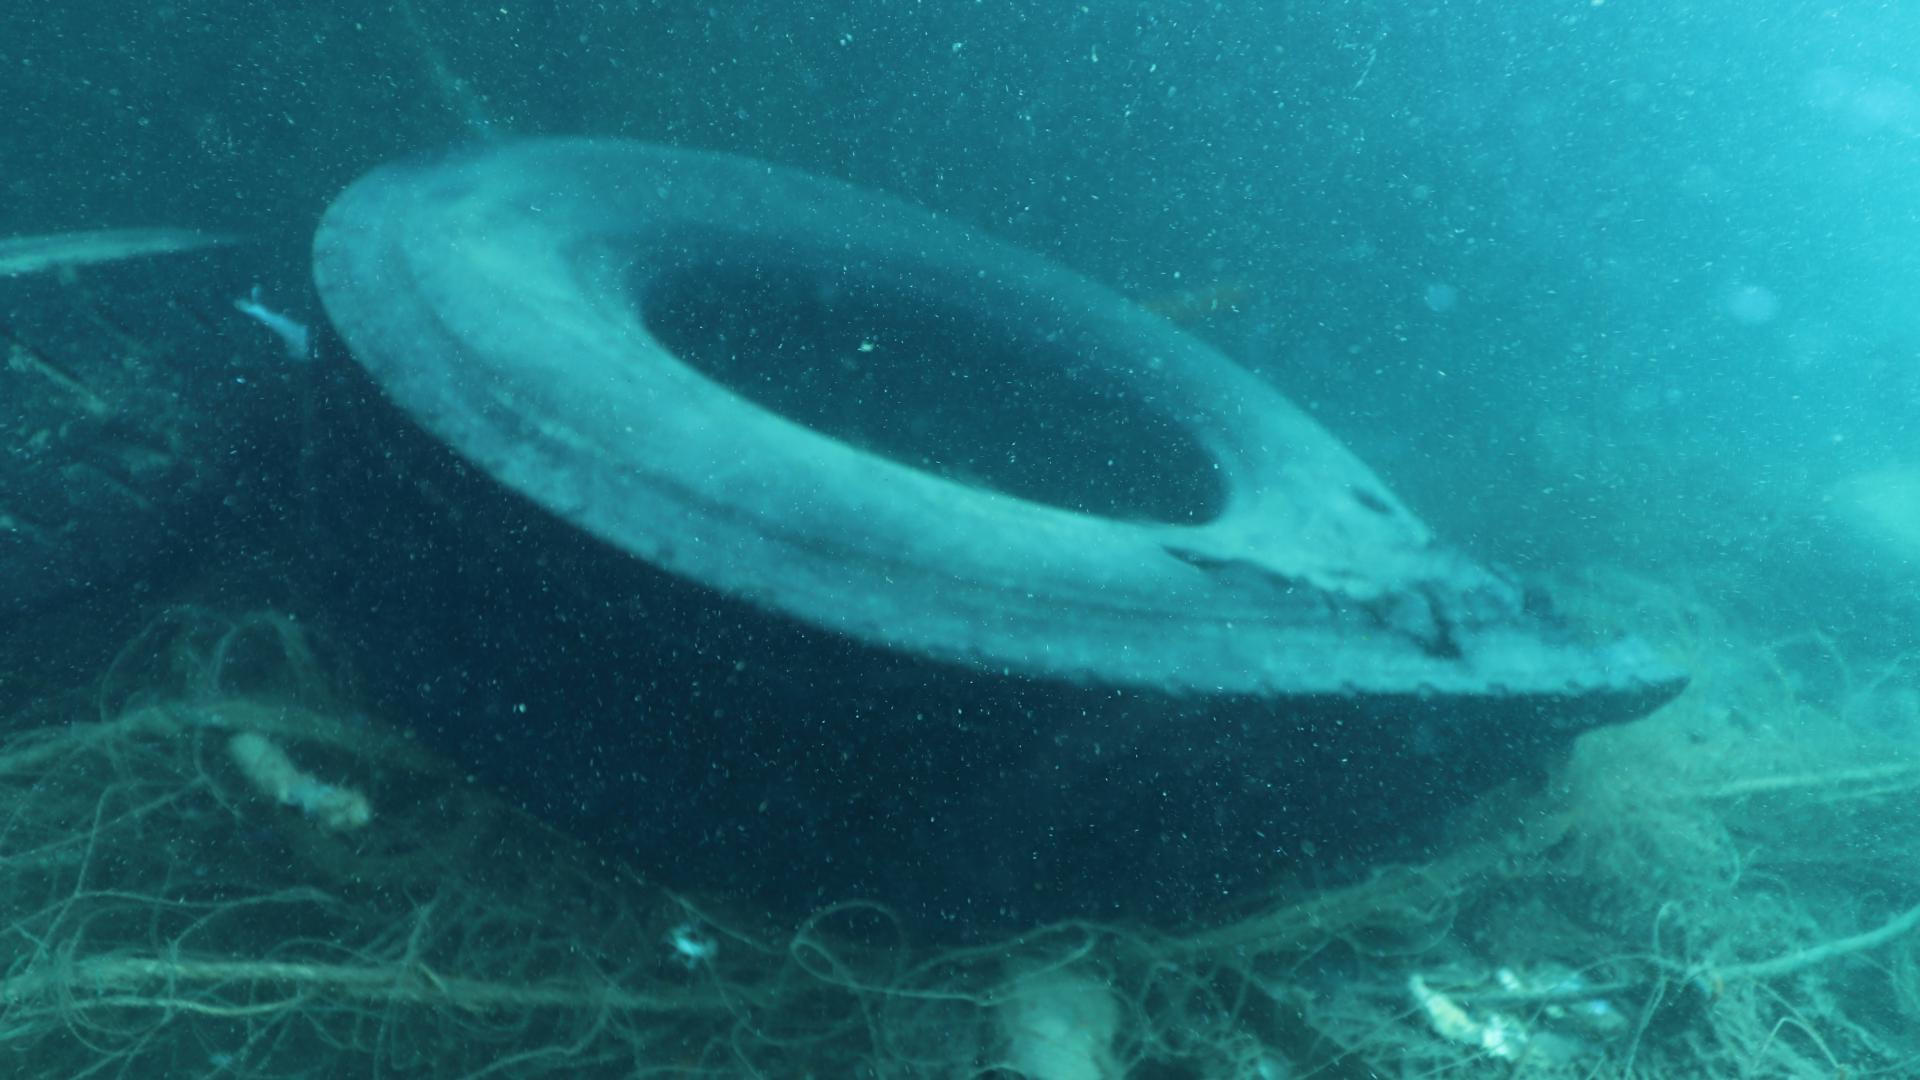tire: (305, 136, 1688, 928)
